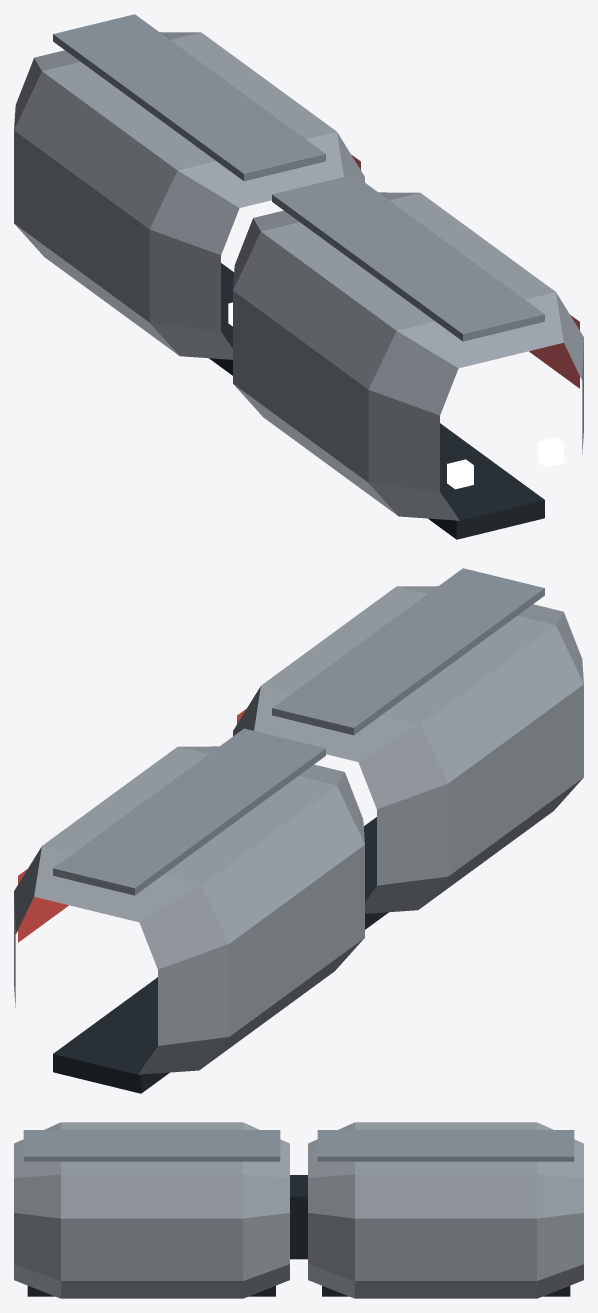
Rendered from mbta-train-red.glb.
3 renders of one model, top to bottom at view 1: azimuth 30°, elevation 25°; view 2: azimuth 150°, elevation 25°; view 3: azimuth 270°, elevation 25°, orthographic. The views are drawn at different scales.
Parts seen in each view (by area): view 1: Car body, Roof and underframe, Head lamps, Window band; view 2: Car body, Roof and underframe, Window band; view 3: Car body, Roof and underframe.
Part boxes in pixels (x1=…): Car body: x1=14, y1=32, x2=583, y2=520; Roof and underframe: x1=53, y1=14, x2=544, y2=539; Head lamps: x1=228, y1=302, x2=564, y2=489; Window band: x1=351, y1=154, x2=579, y2=388; Car body: x1=14, y1=586, x2=583, y2=1074; Roof and underframe: x1=53, y1=568, x2=544, y2=1093; Window band: x1=18, y1=708, x2=246, y2=942; Car body: x1=14, y1=1122, x2=583, y2=1298; Roof and underframe: x1=23, y1=1130, x2=574, y2=1296.
Bounding box in the file's own units: 0.00931 × 0.00845 × 0.0314.
